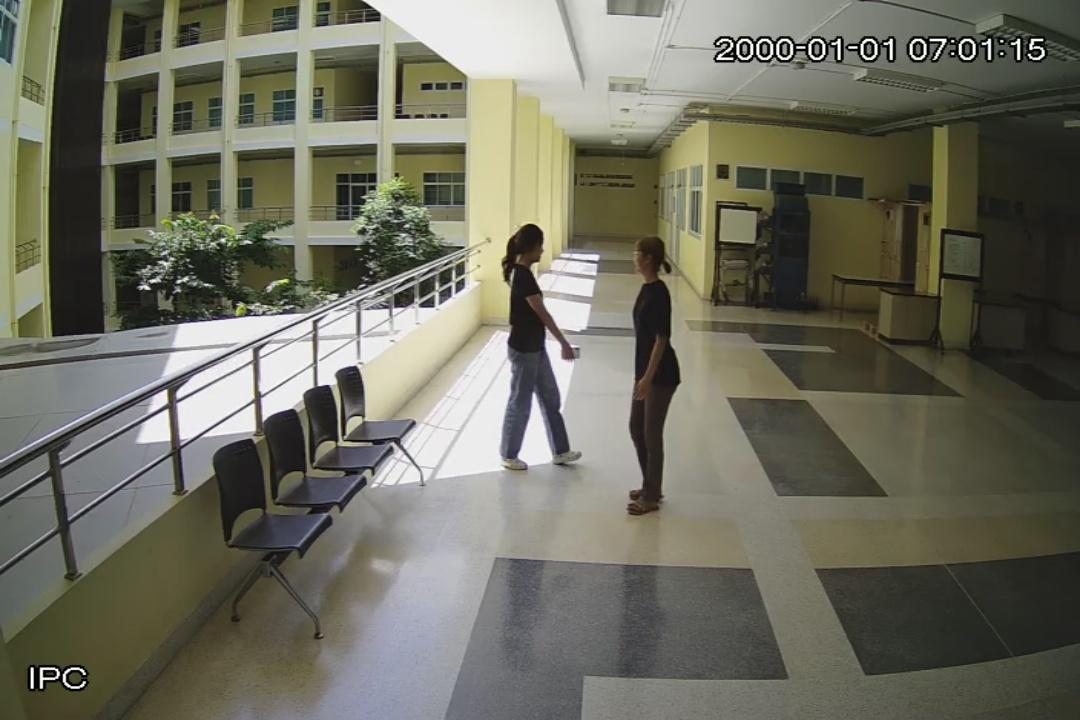normal: (498, 216, 588, 482), (616, 232, 694, 526)
